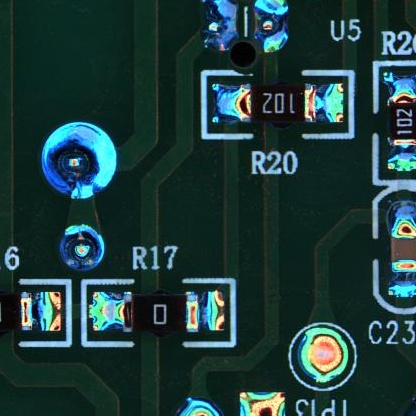spot: (41, 121, 117, 200), (297, 328, 349, 383), (58, 224, 105, 272)
